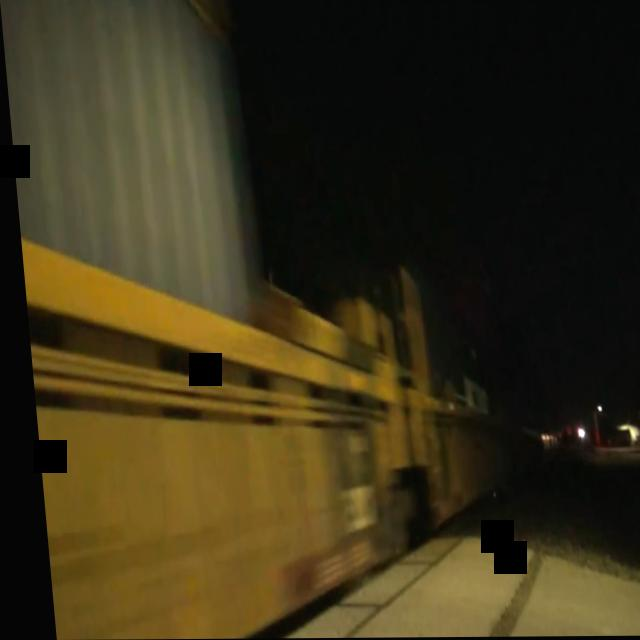container: (0, 0, 272, 346)
flatcar: (14, 195, 422, 640)
